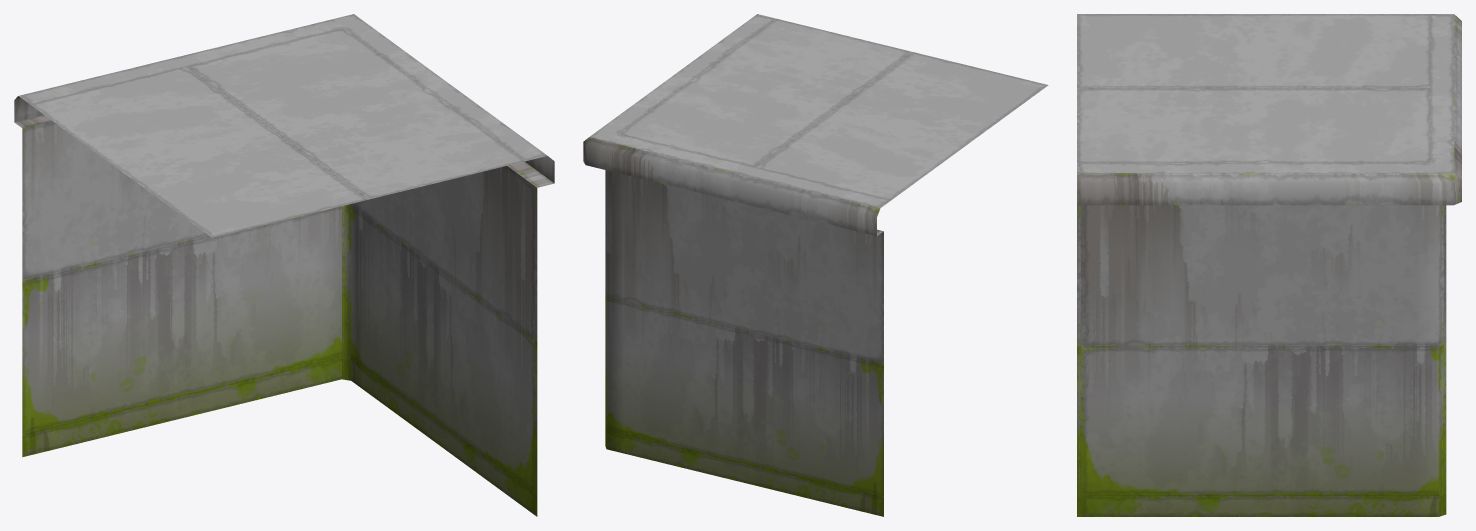
File: SM_ENV_PORT_PIER_BLOCK_02.fbx
3 renders of one model, left to right at view 1: azimuth 30°, elevation 25°; view 2: azimuth 150°, elevation 25°; view 3: azimuth 270°, elevation 25°, orthographic. The views are drawn at different scales.
Parts seen in each view (by area): view 1: SM_ENV_PORT_PIER_BLOCK_02; view 2: SM_ENV_PORT_PIER_BLOCK_02; view 3: SM_ENV_PORT_PIER_BLOCK_02.
Part boxes in pixels (<box>): SM_ENV_PORT_PIER_BLOCK_02: <box>14,14,554,516</box>; SM_ENV_PORT_PIER_BLOCK_02: <box>583,14,1048,516</box>; SM_ENV_PORT_PIER_BLOCK_02: <box>1077,14,1461,516</box>.
Size of the model in its own units: 5 by 5 by 5.
